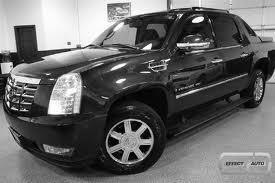car: (4, 5, 275, 176)
